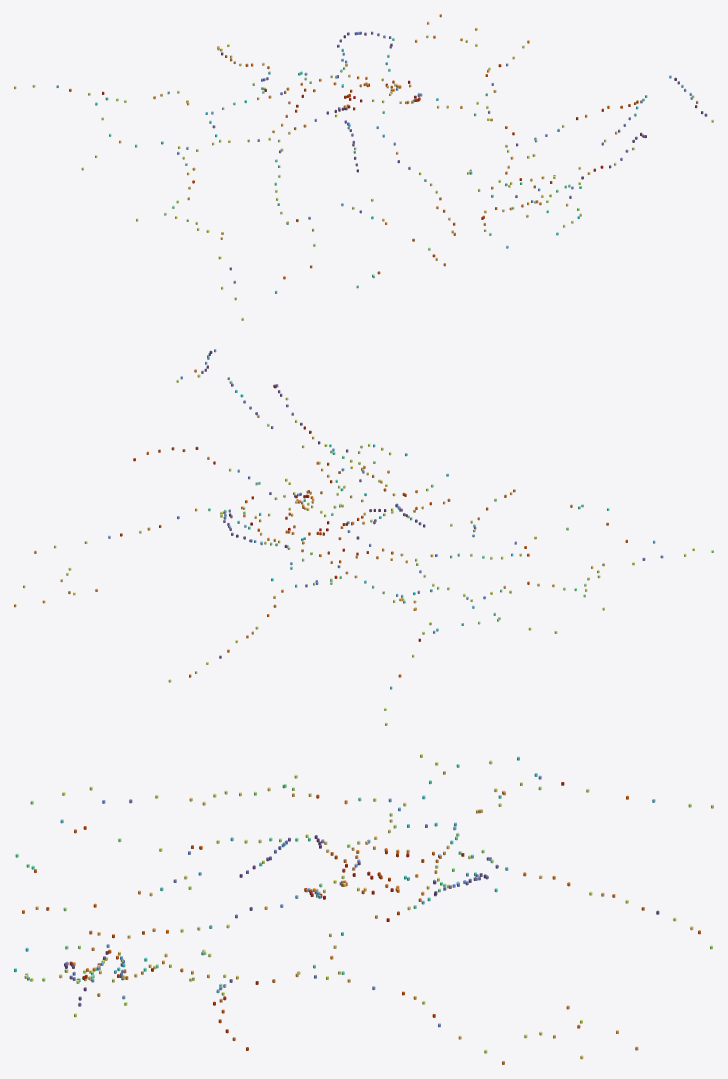
File: magnetic_points_3d.glb
3 renders of one model, top to bottom at view 1: azimuth 30°, elevation 25°; view 2: azimuth 150°, elevation 25°; view 3: azimuth 270°, elevation 25°, orthographic. The views are drawn at different scales.
Visible parts, largest first — view 1: TMI_DiengFiltered; view 2: TMI_DiengFiltered; view 3: TMI_DiengFiltered.
Part boxes in pixels (x1,y1,x2,y2): TMI_DiengFiltered: [14, 14, 713, 320]; TMI_DiengFiltered: [14, 349, 713, 725]; TMI_DiengFiltered: [14, 754, 713, 1064].
Bounding box in the file's own units: 23569 × 5036 × 23362.
